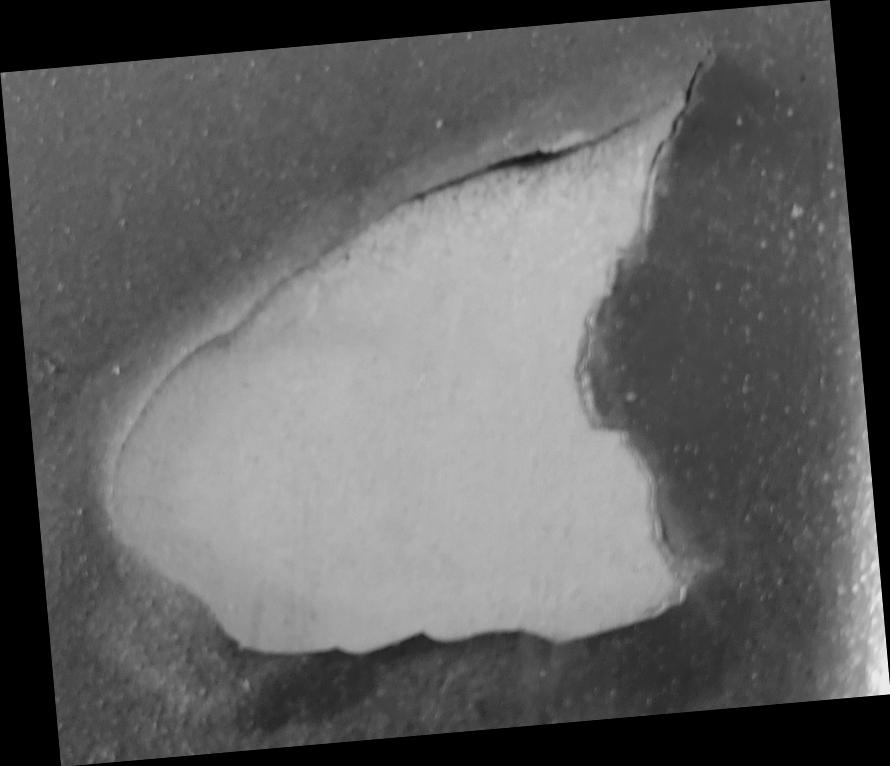paint-off: (1, 0, 890, 766)
